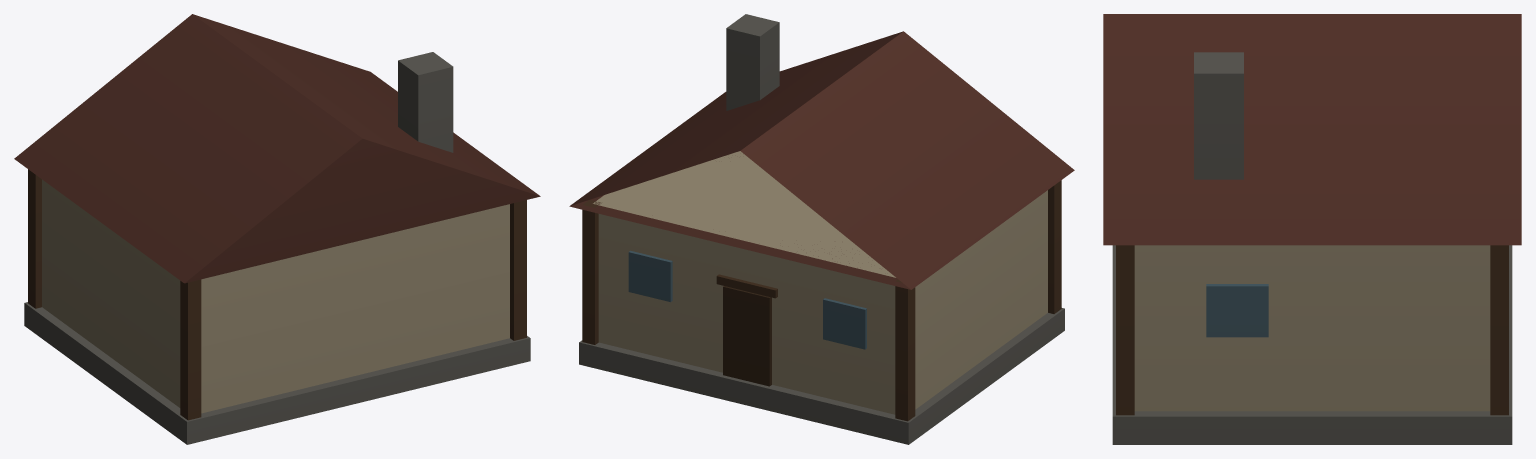
The model's file is ranch_house.glb.
3 renders of one model, left to right at view 1: azimuth 30°, elevation 25°; view 2: azimuth 150°, elevation 25°; view 3: azimuth 270°, elevation 25°, orthographic. The views are drawn at different scales.
Visible parts, largest first — view 1: prop; view 2: prop; view 3: prop.
Boxes of the visible parts, <box> form: prop: <box>14,14,540,444</box>; prop: <box>569,14,1074,444</box>; prop: <box>1103,14,1521,444</box>.
Size of the model in its own units: 8.1 by 6.1 by 6.7.
